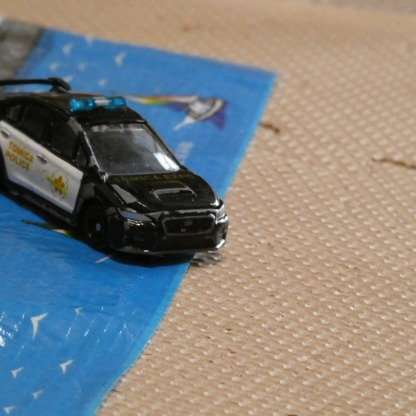car: (0, 77, 233, 256)
